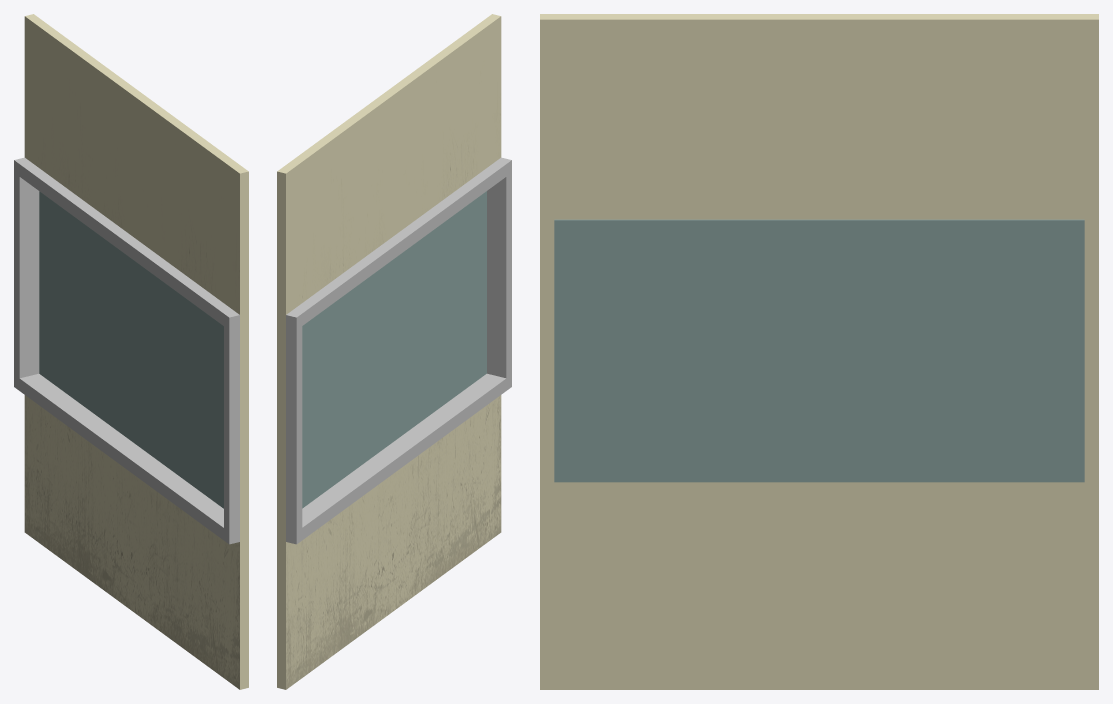
File: fbx_hamburger_wall1.fbx
3 views of the same model, side by side, from view 1: azimuth 30°, elevation 25°; view 2: azimuth 150°, elevation 25°; view 3: azimuth 270°, elevation 25° (orthographic). The views are drawn at different scales.
Parts seen in each view (by area): view 1: fbx_hamburger_wall1; view 2: fbx_hamburger_wall1; view 3: fbx_hamburger_wall1.
Part boxes in pixels (x1,y1,x2,y2): fbx_hamburger_wall1: (14, 14, 248, 689); fbx_hamburger_wall1: (277, 14, 511, 689); fbx_hamburger_wall1: (540, 14, 1098, 689).
Size of the model in its own units: 0.2255 by 5.26 by 3.97.
2 materials, 1 textured.
